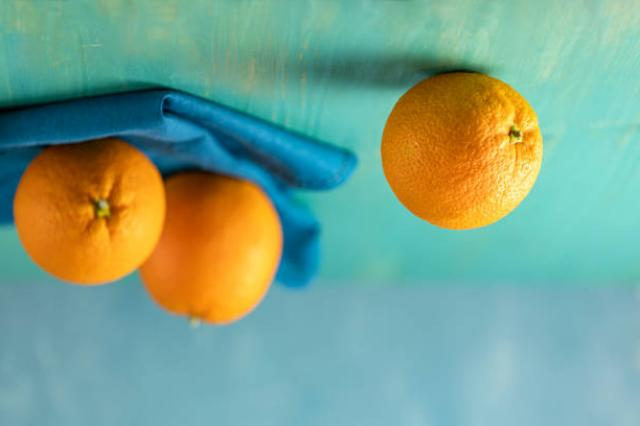Oranges: (382, 71, 542, 229), (15, 142, 166, 286), (142, 172, 282, 324)
